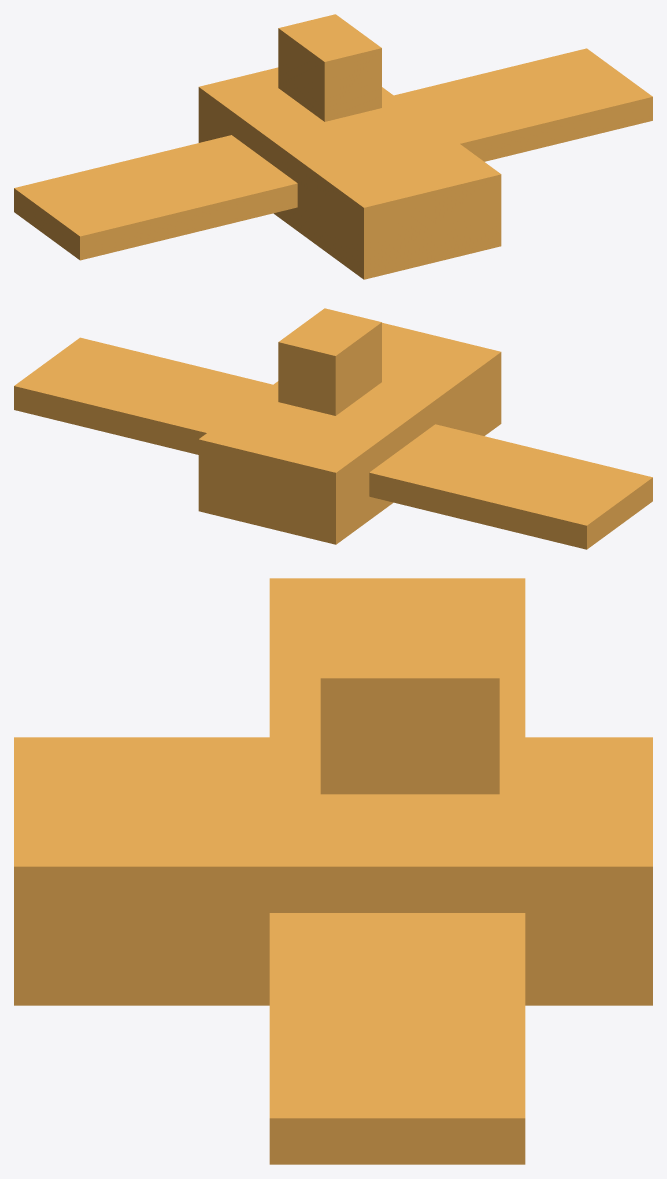
The model's file is hero-helios.gltf.
3 renders of one model, top to bottom at view 1: azimuth 30°, elevation 25°; view 2: azimuth 150°, elevation 25°; view 3: azimuth 270°, elevation 25°, orthographic. The views are drawn at different scales.
Visible parts, largest first — view 1: torso, wingL, wingR, bridge; view 2: torso, wingL, wingR, bridge; view 3: torso, wingR, bridge, wingL.
Part boxes in pixels (<box>): torso: <box>198,67,501,279</box>; wingL: <box>14,135,297,260</box>; wingR: <box>394,48,652,161</box>; bridge: <box>278,14,381,121</box>; torso: <box>198,322,501,544</box>; wingL: <box>369,424,652,549</box>; wingR: <box>14,337,272,454</box>; bridge: <box>278,308,381,415</box>; torso: <box>14,737,652,1005</box>; wingR: <box>269,913,525,1164</box>; bridge: <box>320,624,499,794</box>; wingL: <box>269,578,525,737</box>.
Size of the model in its own units: 100 by 25 by 50.
